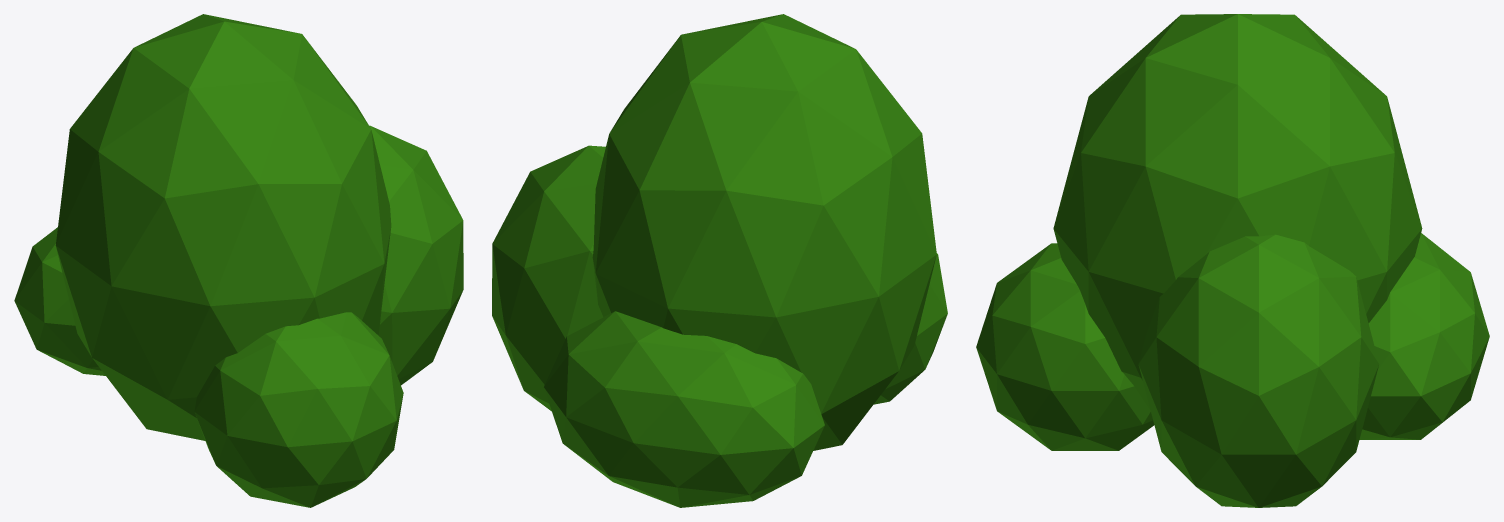
Rendered from Busch_3.fbx.
3 renders of one model, left to right at view 1: azimuth 30°, elevation 25°; view 2: azimuth 150°, elevation 25°; view 3: azimuth 270°, elevation 25°, orthographic. The views are drawn at different scales.
Parts seen in each view (by area): view 1: Icosphere.001; view 2: Icosphere.001; view 3: Icosphere.001.
Part boxes in pixels (box(x1,y1,x2,y2)): Icosphere.001: box(14, 14, 463, 507); Icosphere.001: box(492, 14, 947, 507); Icosphere.001: box(976, 14, 1489, 507).
Size of the model in its own units: 190 by 201 by 217.
